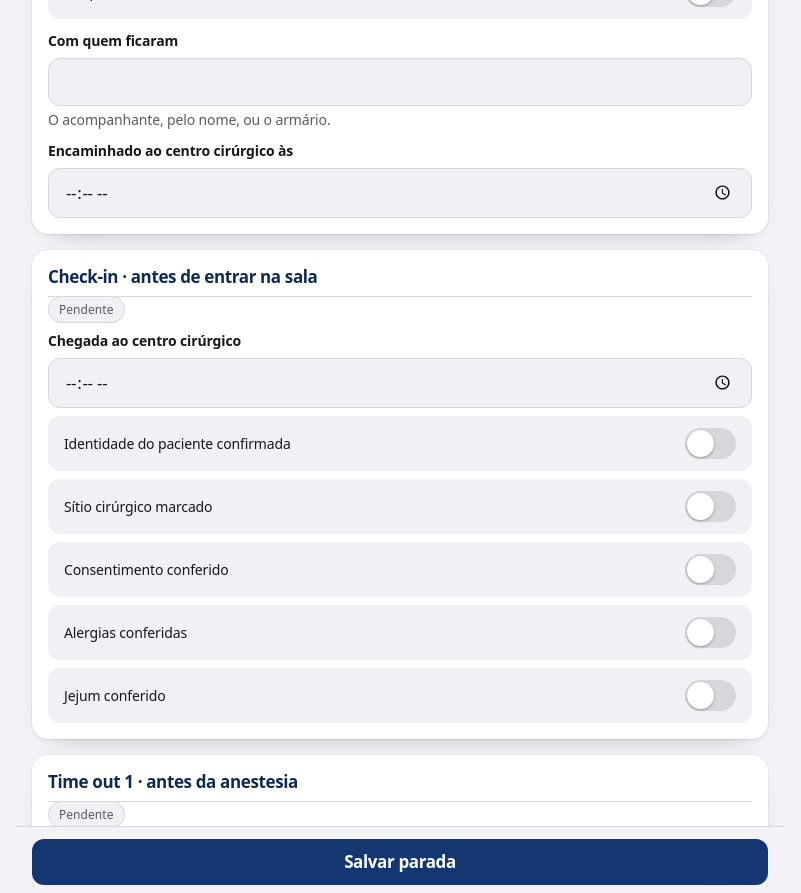
Ficha cirúrgica › salvar uma parada não tira a pessoa da tela
(page scrolled)
Click the checkbox labelled "Identidade do paciente confirmada": coordinates (177, 443) 48,416 -> 752,470
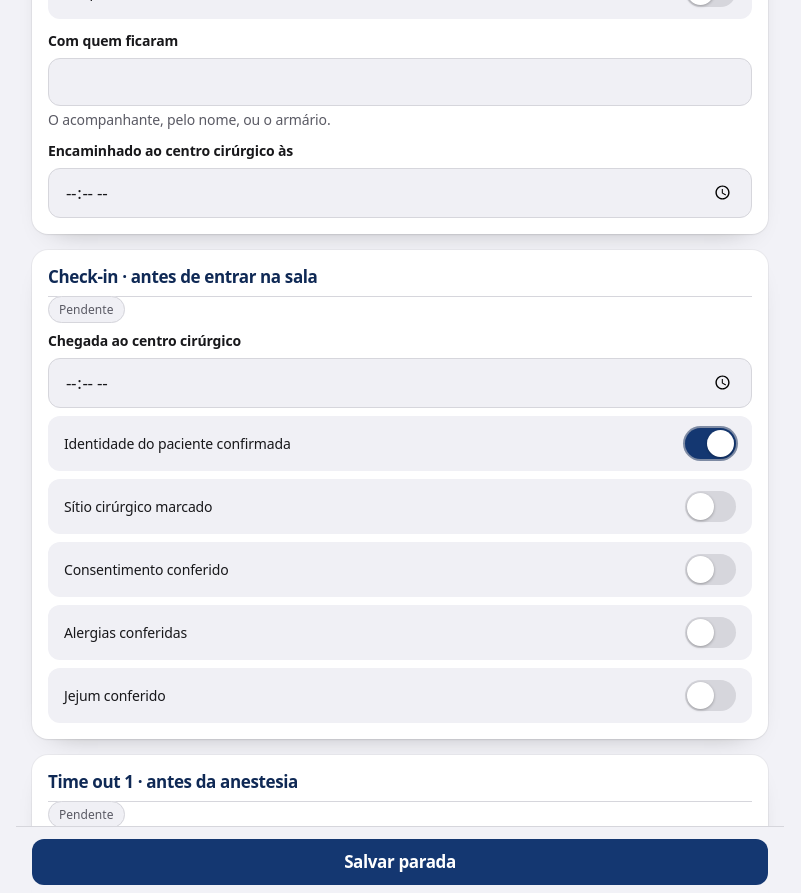
Click the button "Salvar parada": coordinates (400, 862) 32,839 -> 768,885
(page scrolled)
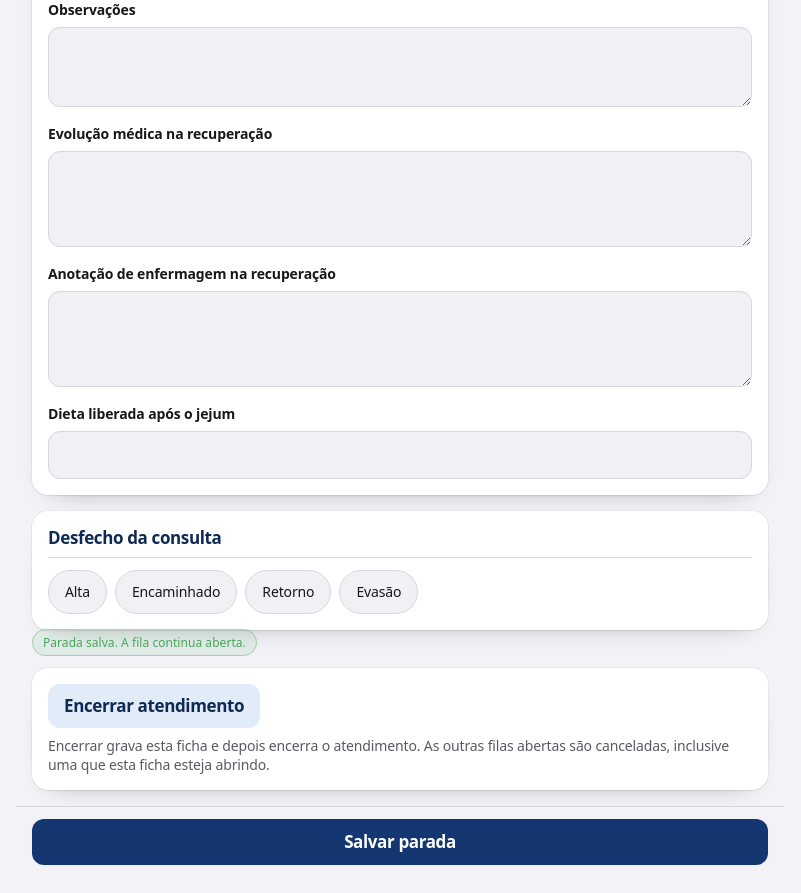
Expected: the text "Parada salva. A fila continua aberta." is shown, 32,628 -> 257,656
